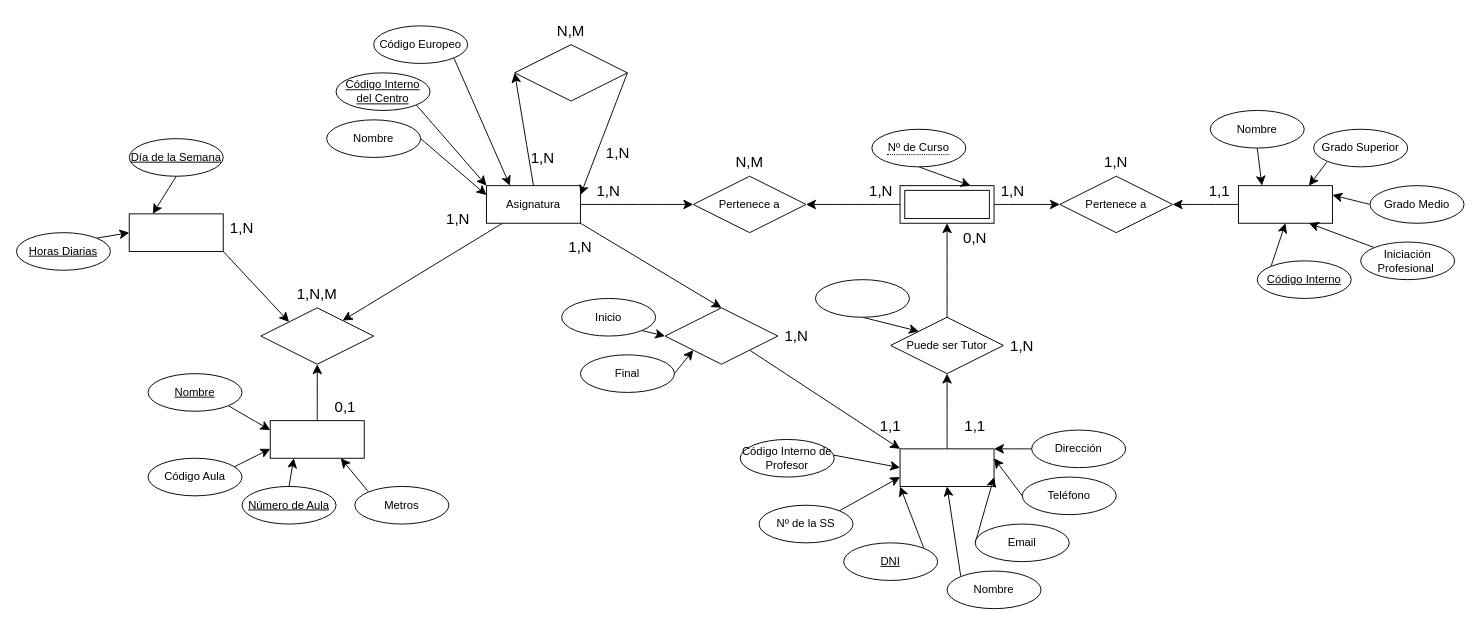
The diagram is 1481 pixels wide and 625 high, and some of its shapes have lost their labels. The shapes that lost their labels are listed below. From the top down, each one's centre as x and y in pixels, then its label:
At (570,72): "Ha aprobado".
At (946,204): "Curso".
At (1285,204): "Ciclo".
At (175,232): "Horario".
At (862,298): "Antigüedad".
At (317,335): "Ocupan".
At (721,335): "Imparte".
At (316,439): "Aula".
At (946,467): "Profesor".
